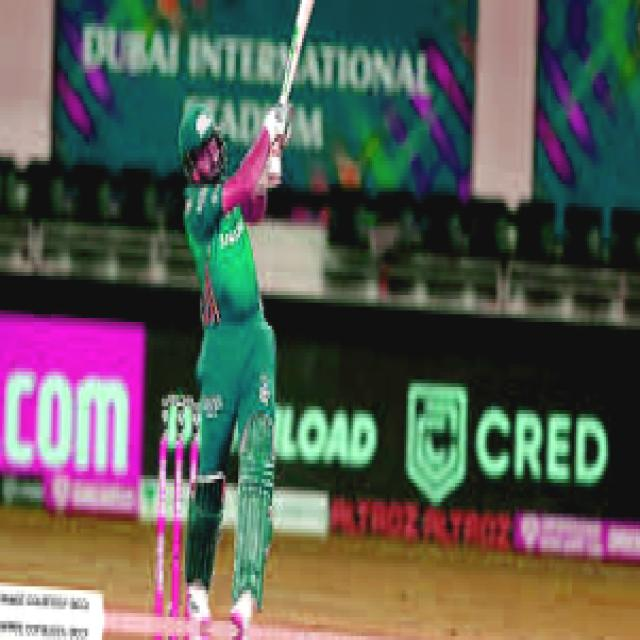toe: (291, 0, 324, 11)
